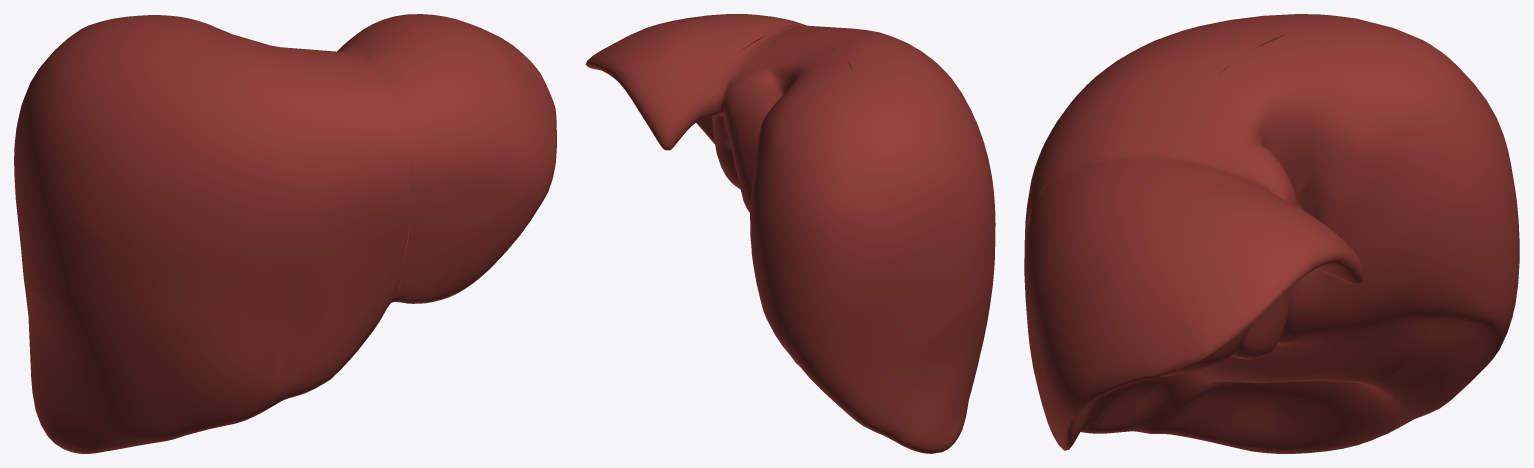
File: visceras-liver.glb
3 renders of one model, left to right at view 1: azimuth 30°, elevation 25°; view 2: azimuth 150°, elevation 25°; view 3: azimuth 270°, elevation 25°, orthographic. The views are drawn at different scales.
Visible parts, largest first — view 1: Liver; view 2: Liver; view 3: Liver.
Boxes of the visible parts, x1,y1,x2,y2 form: Liver: (14, 14, 556, 453); Liver: (585, 14, 995, 453); Liver: (1024, 14, 1519, 453).
Bounding box in the file's own units: 0.2063 × 0.1663 × 0.1531.
